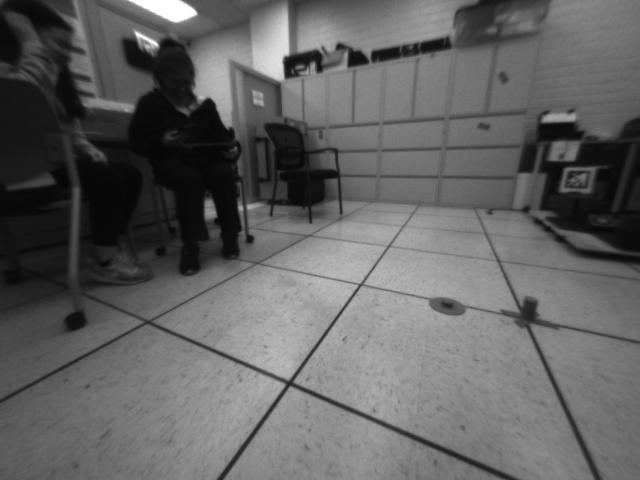X: (498, 293, 562, 332)
